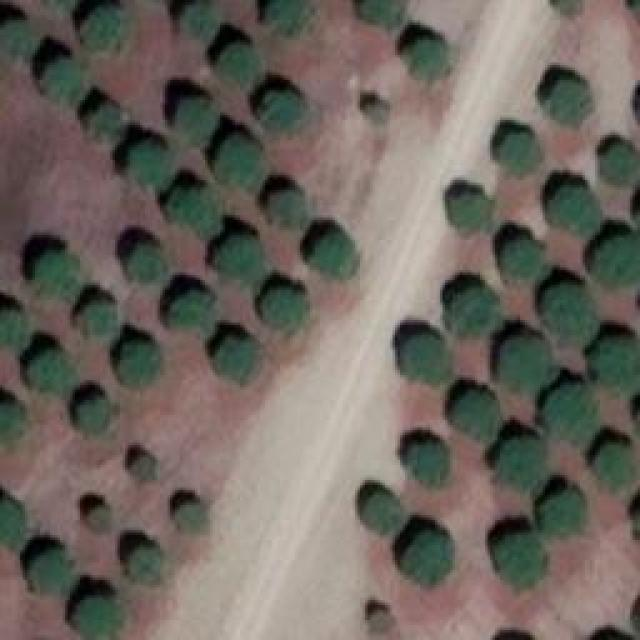Tree: (540, 283, 598, 346), (500, 333, 555, 396), (395, 333, 450, 388), (400, 530, 448, 593), (75, 5, 130, 58), (443, 285, 496, 338), (492, 530, 540, 588), (590, 230, 640, 283), (543, 385, 593, 438), (547, 185, 595, 240), (497, 433, 545, 486), (123, 138, 173, 188), (220, 135, 270, 185), (448, 390, 498, 440), (308, 233, 358, 283), (170, 185, 220, 233), (217, 230, 265, 280), (543, 77, 593, 125), (258, 280, 308, 328), (540, 488, 585, 541), (203, 333, 258, 376), (595, 335, 638, 388), (215, 40, 263, 85), (450, 190, 495, 238), (400, 440, 448, 485), (590, 438, 633, 488), (492, 238, 540, 281), (75, 595, 123, 638), (258, 88, 303, 133), (28, 345, 71, 390), (405, 30, 448, 75), (495, 128, 538, 173), (363, 490, 406, 535), (265, 188, 308, 231), (35, 250, 78, 293), (165, 290, 208, 333), (265, 0, 313, 38), (43, 53, 83, 98), (178, 98, 218, 141), (73, 297, 118, 335), (0, 18, 38, 61), (30, 545, 68, 588), (120, 343, 160, 383), (175, 0, 213, 40), (603, 140, 636, 185), (82, 100, 120, 138), (125, 240, 163, 278), (73, 395, 108, 433), (128, 542, 163, 580), (83, 500, 116, 533), (358, 0, 401, 25), (0, 308, 25, 348), (0, 400, 25, 440), (178, 503, 208, 536), (0, 500, 20, 538), (360, 95, 385, 123), (133, 452, 156, 480)
